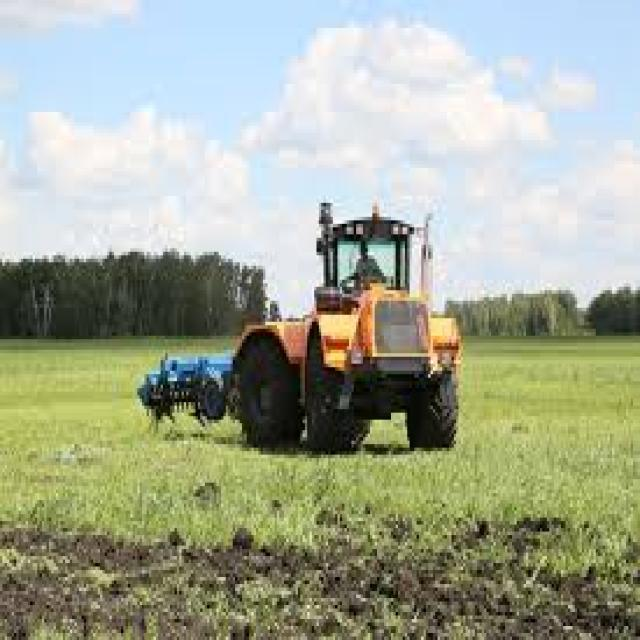Tratores - v5 YOLO V8L 2024-11-13: (213, 198, 492, 476)
